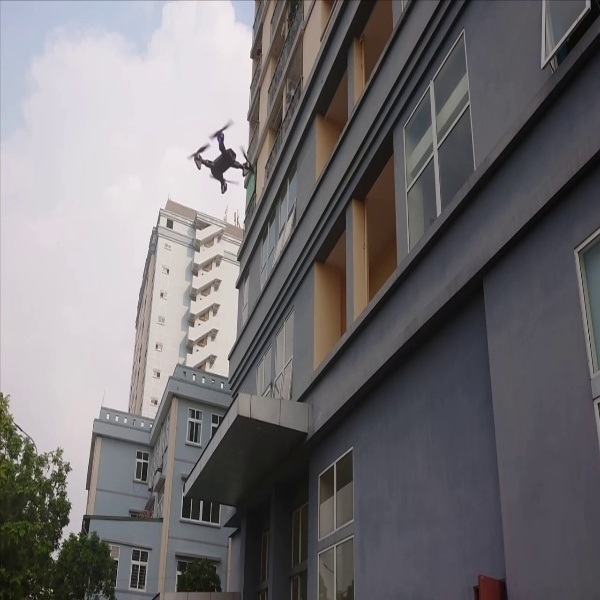drone: (183, 115, 263, 196)
